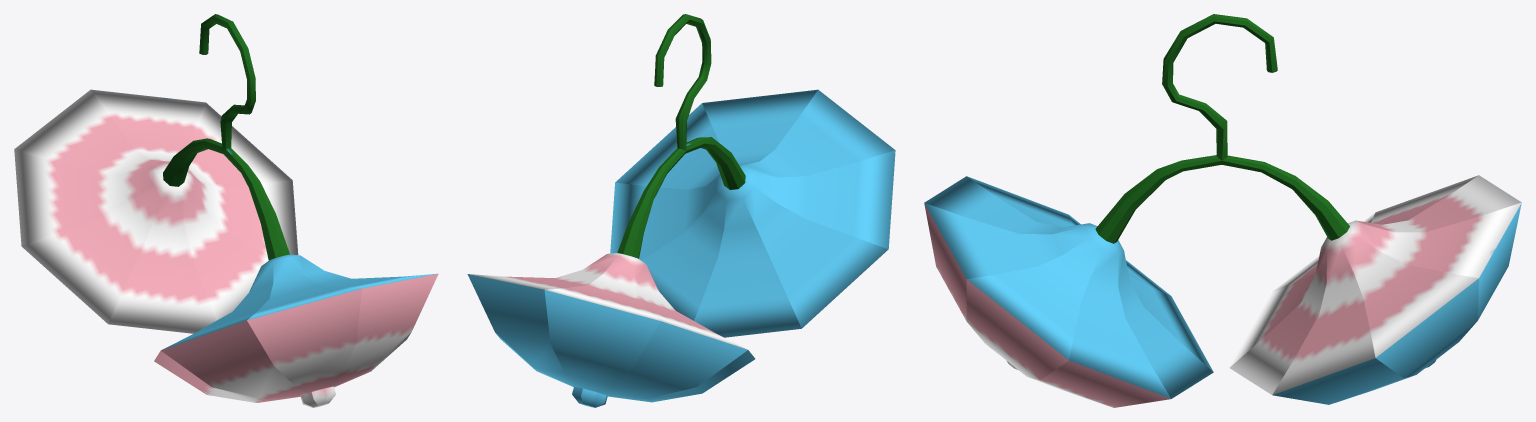
The model's file is Cherripeno.fbx.
3 renders of one model, left to right at view 1: azimuth 30°, elevation 25°; view 2: azimuth 150°, elevation 25°; view 3: azimuth 270°, elevation 25°, orthographic. The views are drawn at different scales.
Visible parts, largest first — view 1: pCylinder3; view 2: pCylinder3; view 3: pCylinder3.
Part boxes in pixels (x1,y1,x2,y2): pCylinder3: [14, 14, 438, 407]; pCylinder3: [467, 14, 895, 407]; pCylinder3: [924, 14, 1521, 407].
Size of the model in its own units: 0.1713 by 0.2052 by 0.2969.
Materials: 1 (1 with a texture image).
